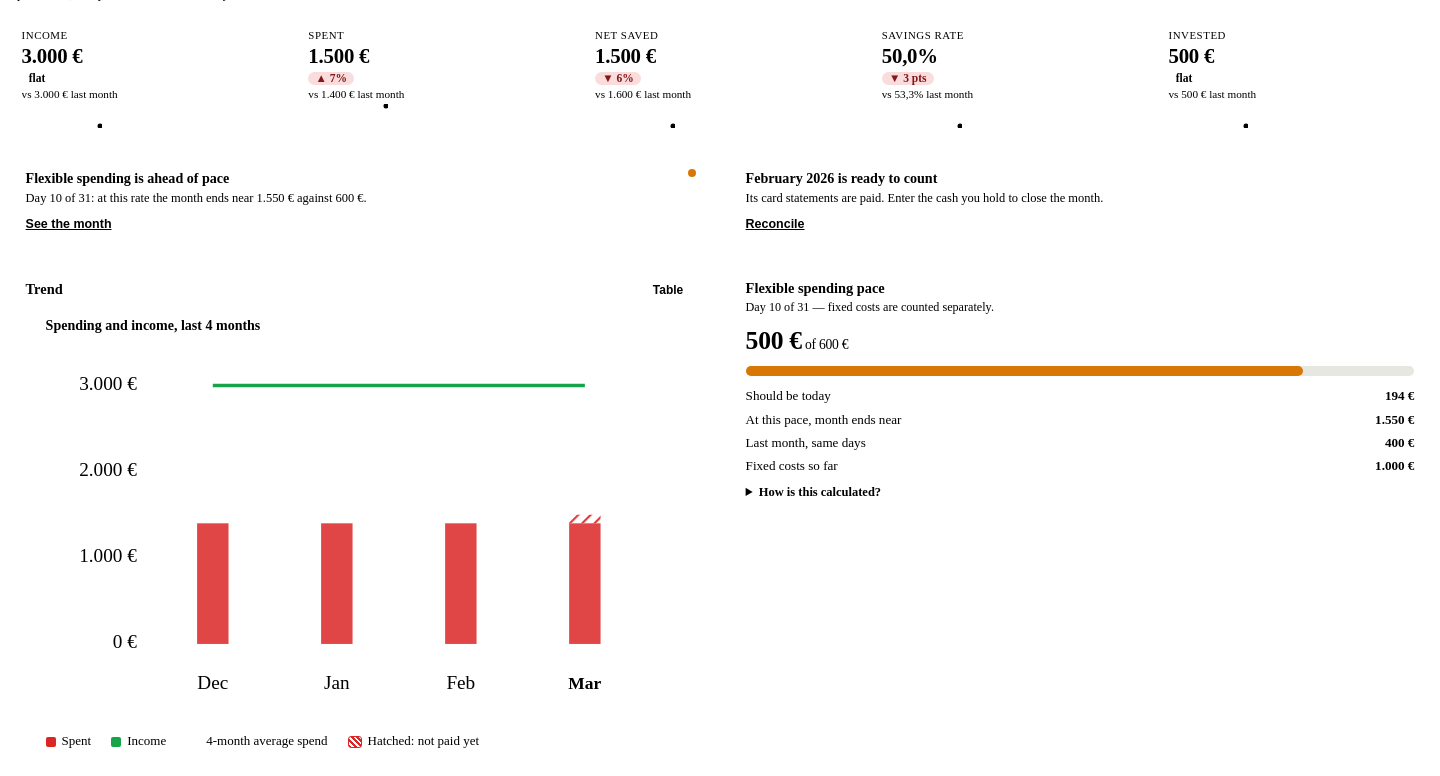
Test case: OverviewView › opens the monthly totals table on demand
expect the text "Net saving" is not shown: met
What coordinates should you click on to do the following:
click the button "Table"
I would click on:
 (668, 290)
Its box is [642,280,694,299].
(page scrolled)
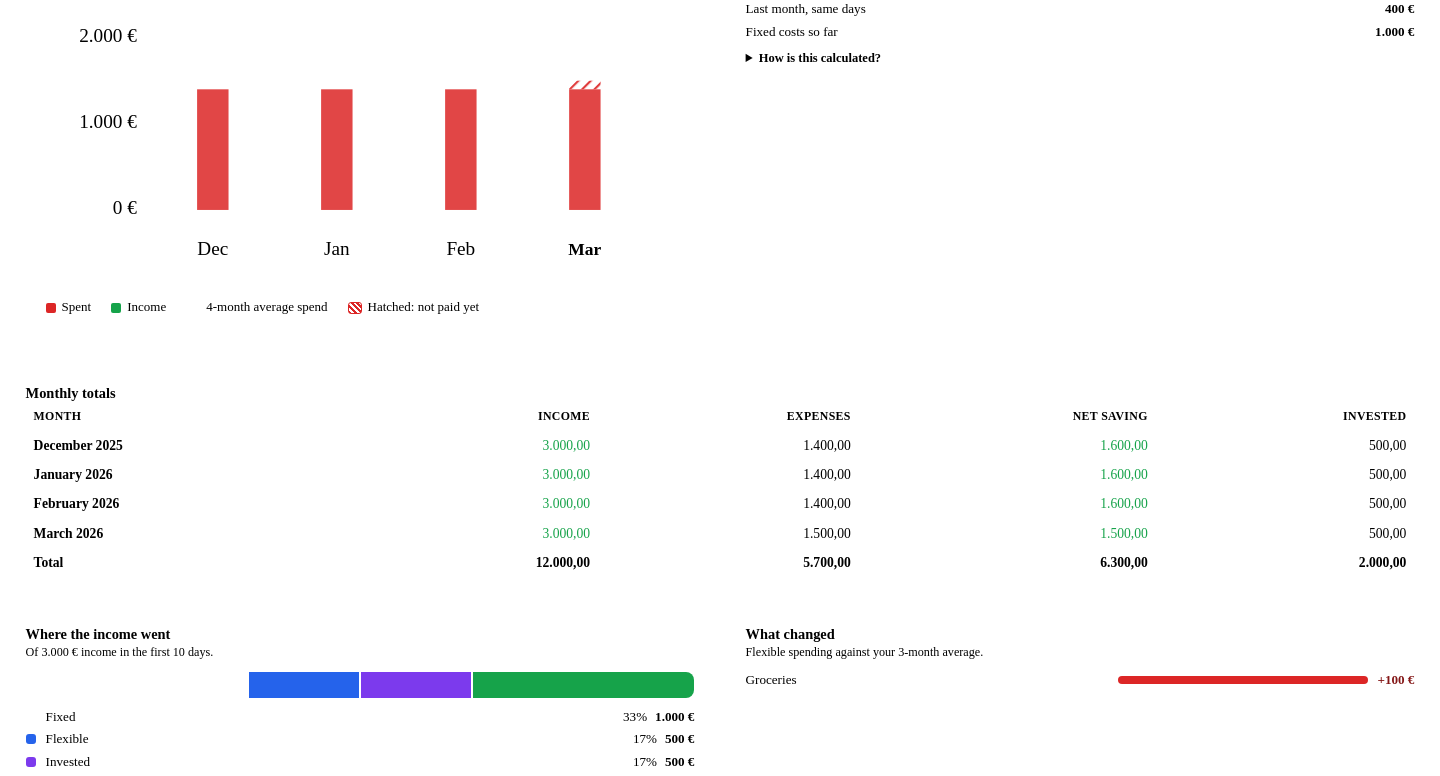
expect the column heading "Net saving" is shown: met, box [859,402,1156,431]
